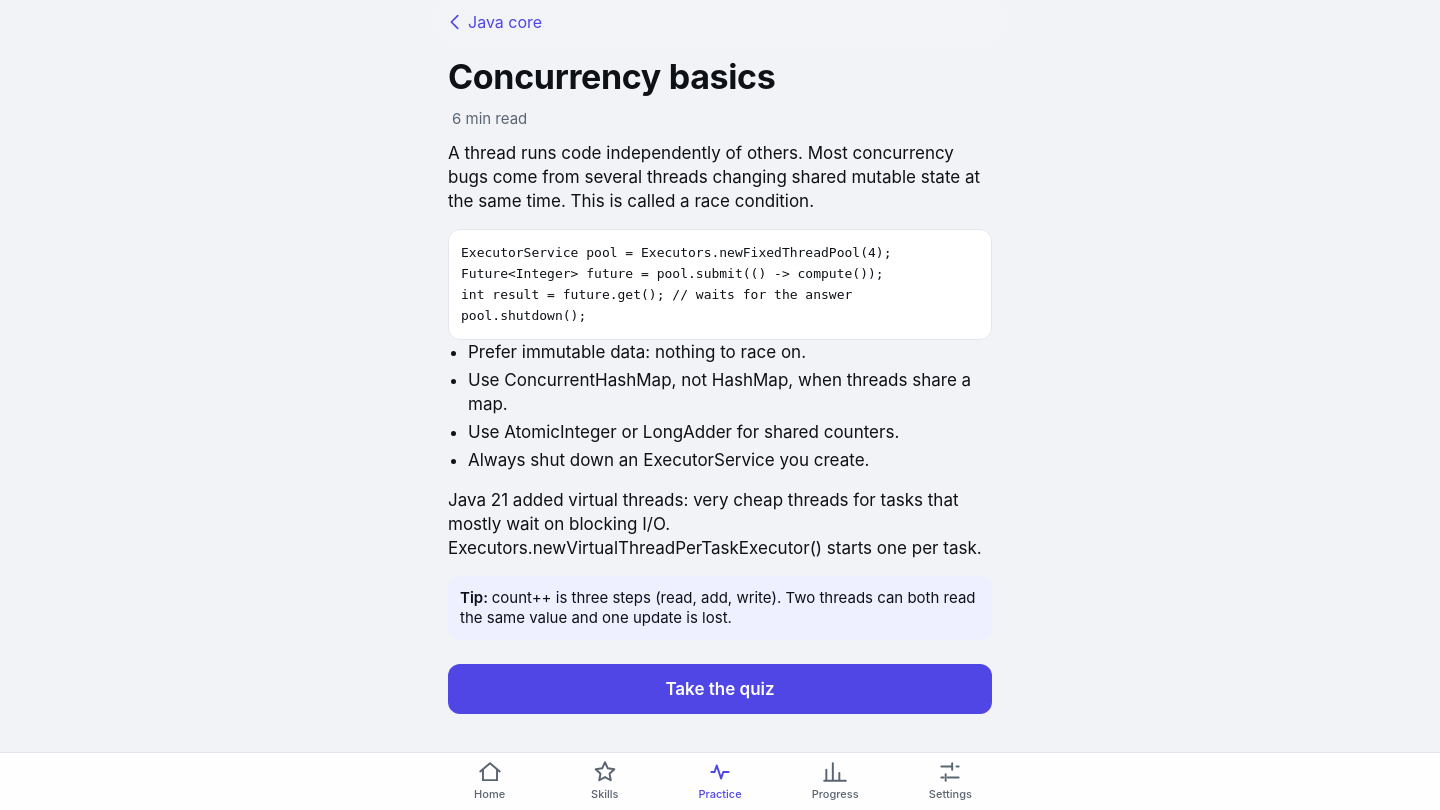
it: Java module › completing every lesson of a path unlocks the Java path achievement
Click the button "Take the quiz".
click(720, 688)  # box left=448, top=664, right=992, bottom=714
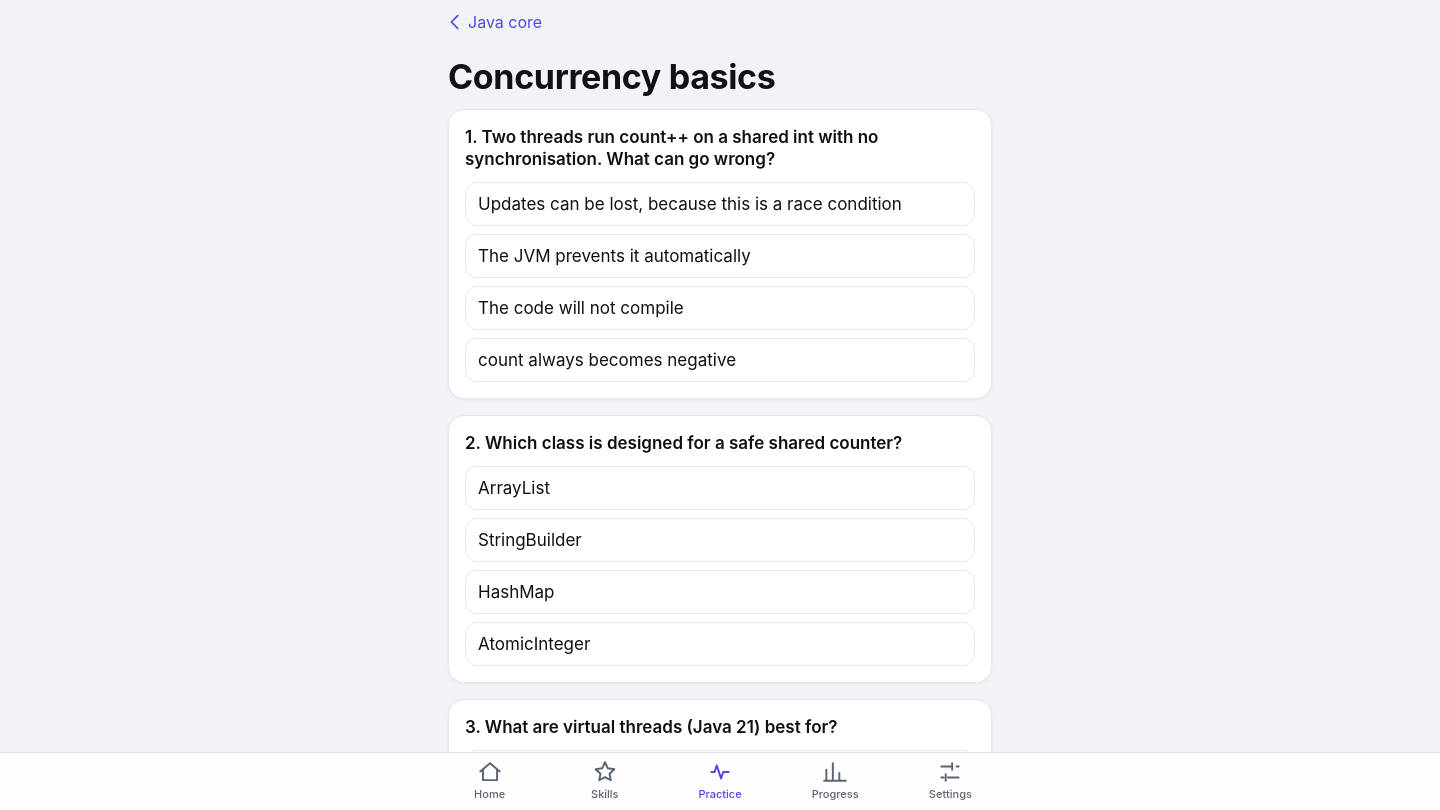
Click the radio button labelled "Updates can be lost, because this is a race condition".
click(720, 204)  # box left=465, top=182, right=975, bottom=226
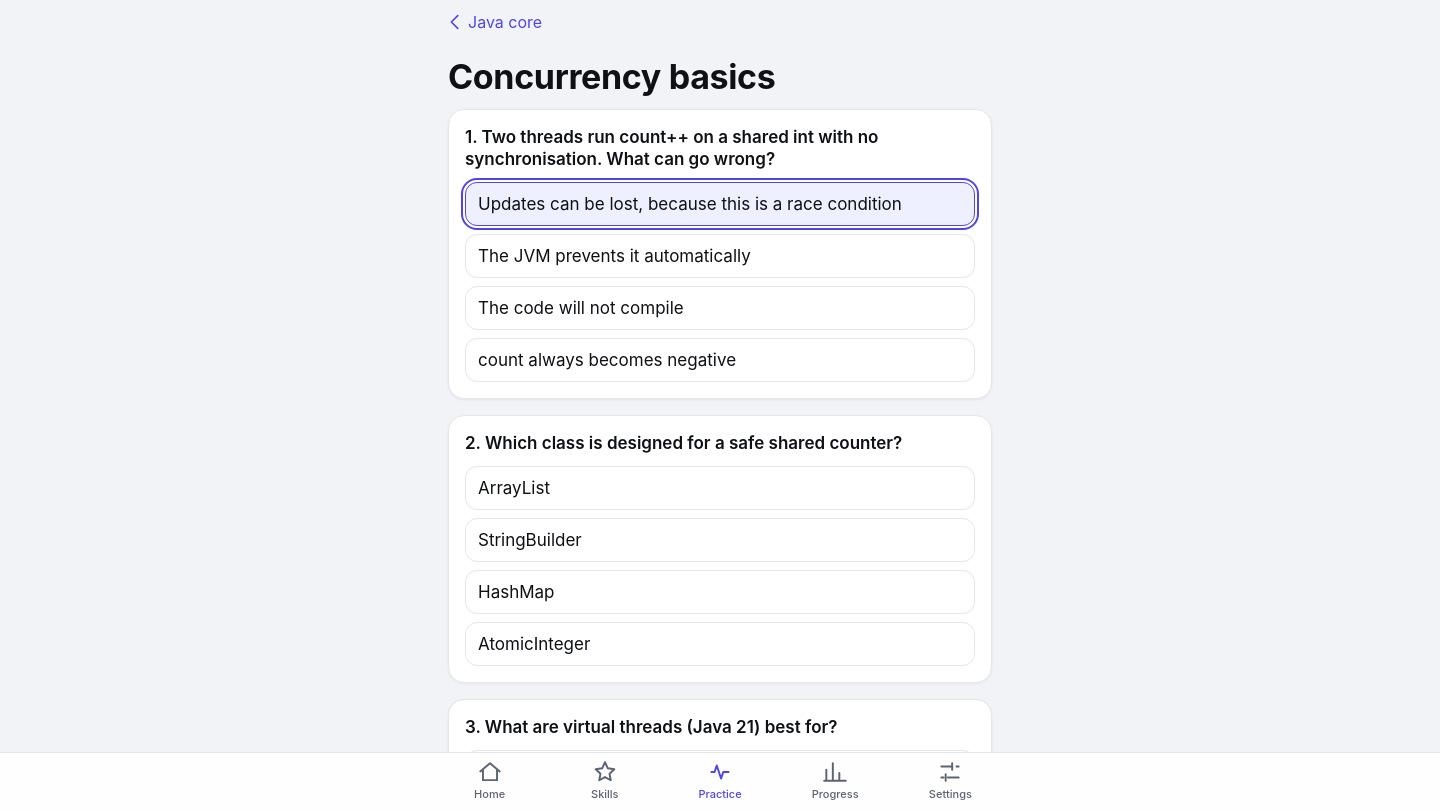
Click the radio button labelled "AtomicInteger".
click(534, 644)  # box left=465, top=622, right=975, bottom=666
(page scrolled)
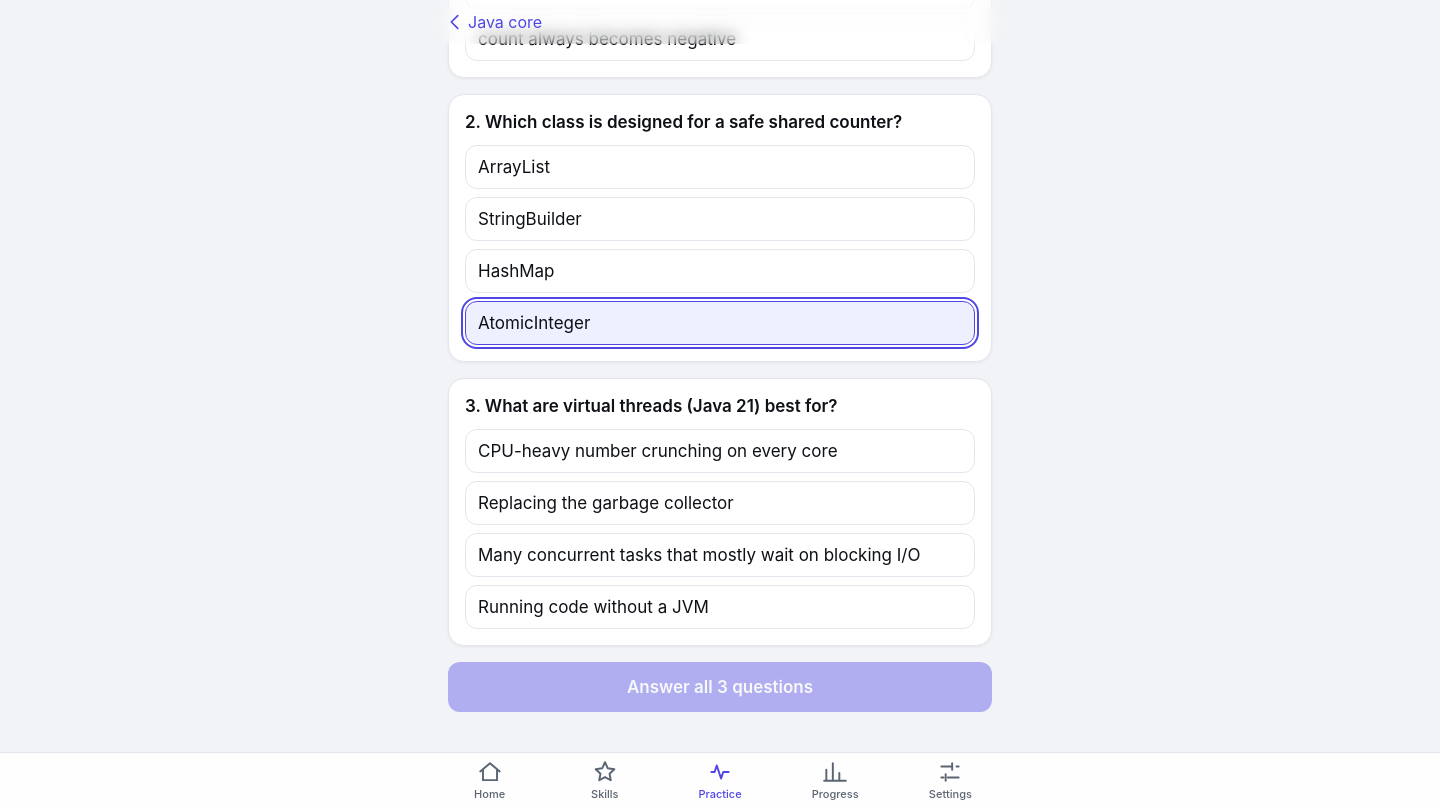
Click the radio button labelled "Many concurrent tasks that mostly wait on blocking I/O".
click(720, 555)  # box left=465, top=533, right=975, bottom=577
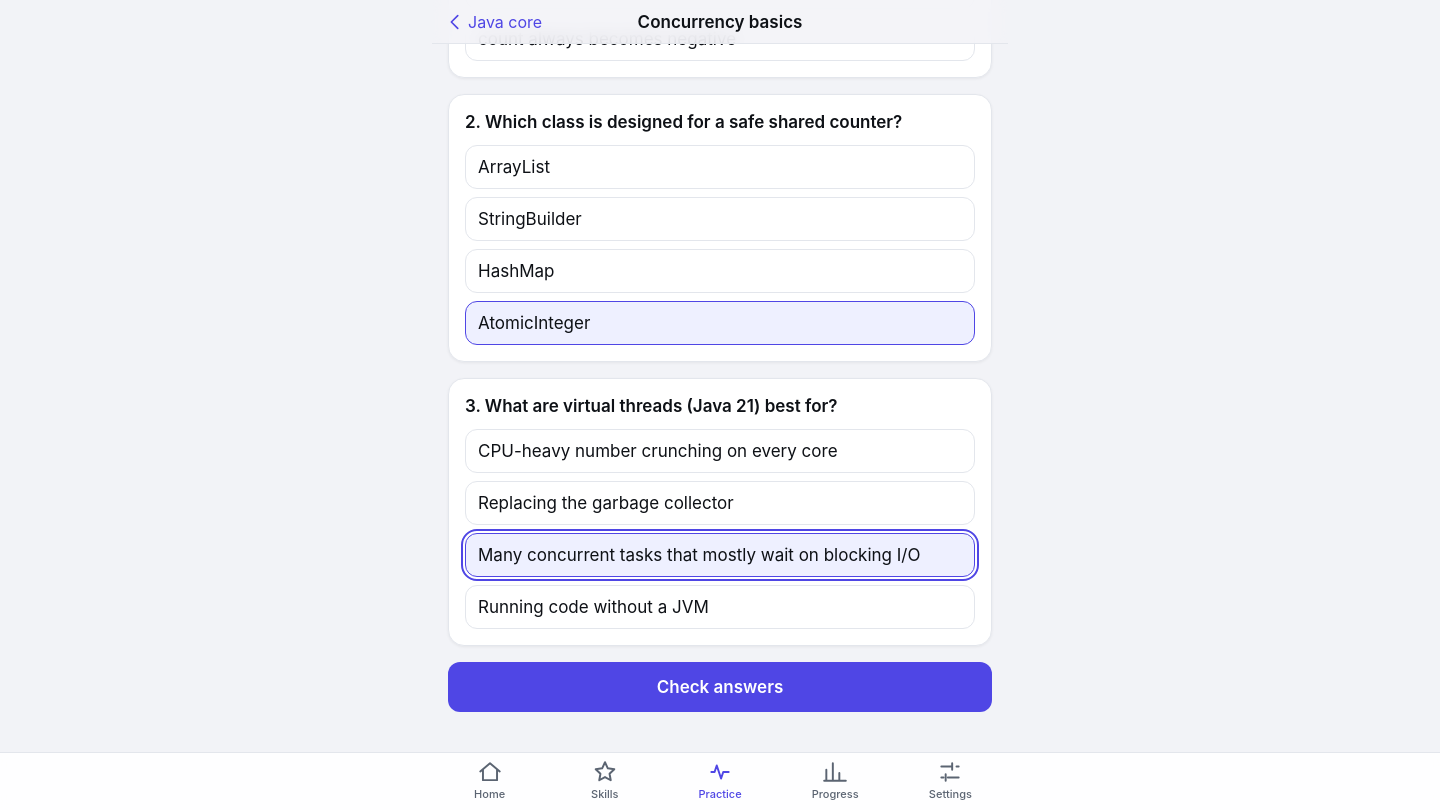
Click the button "Check answers".
click(720, 687)  # box left=448, top=662, right=992, bottom=712
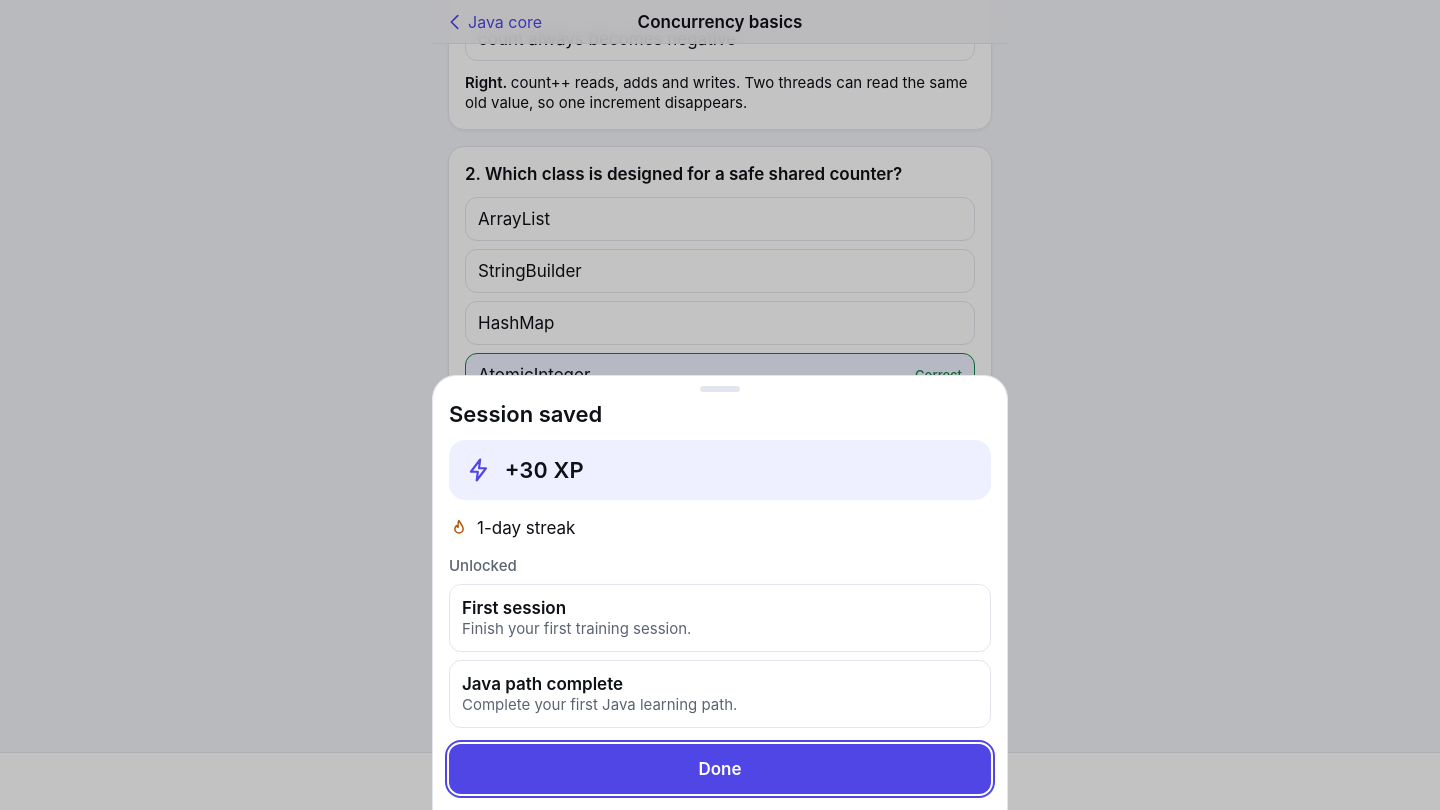
Check: the dialog "Session saved" is shown, box left=432, top=375, right=1008, bottom=809
